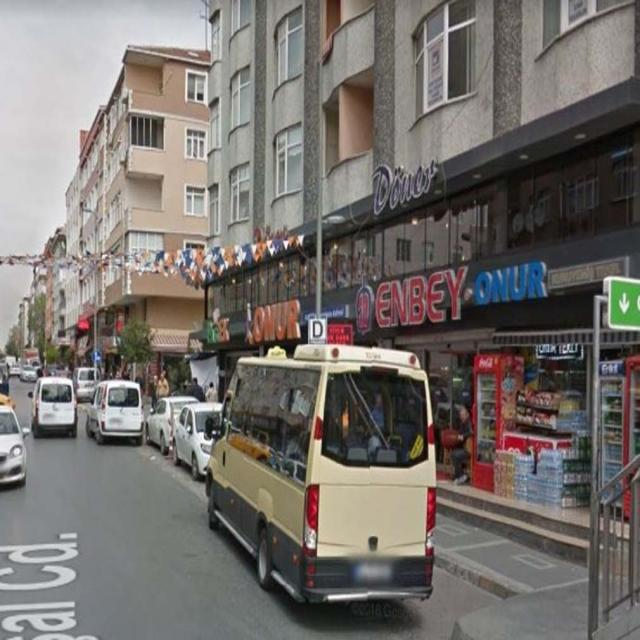durak: (309, 317, 326, 343)
